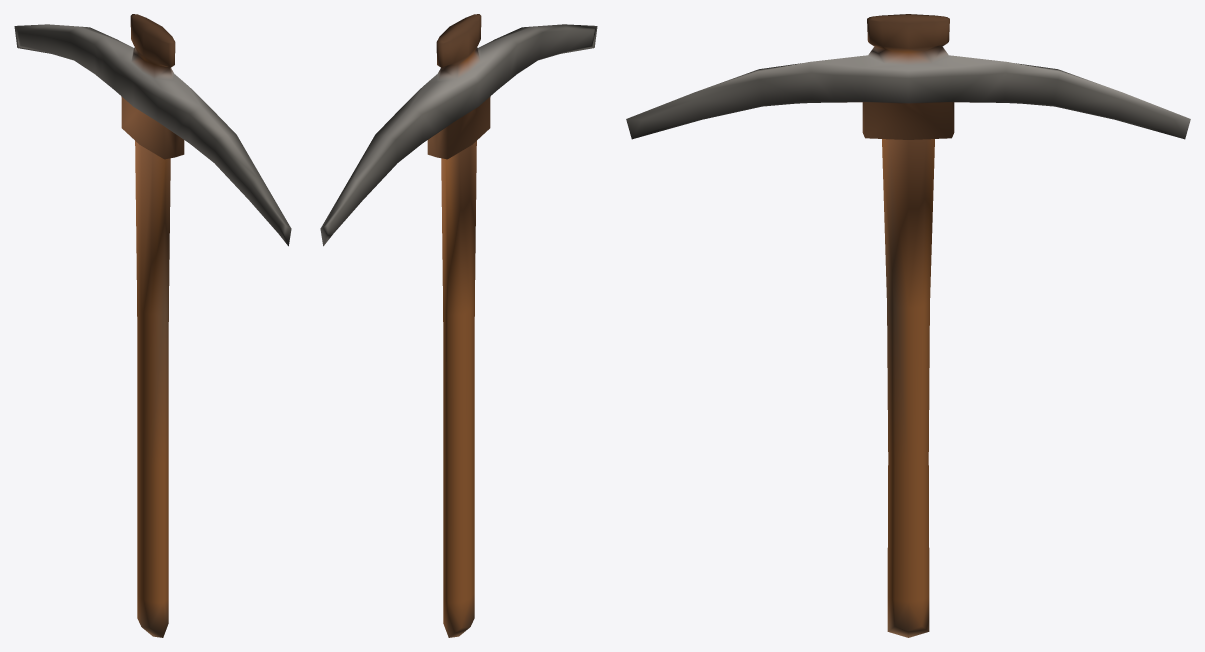
The model's file is stonePickaxe.fbx.
3 views of the same model, side by side, from view 1: azimuth 30°, elevation 25°; view 2: azimuth 150°, elevation 25°; view 3: azimuth 270°, elevation 25° (orthographic).
Parts seen in each view (by area): view 1: Plane.007; view 2: Plane.007; view 3: Plane.007.
Part boxes in pixels (x1,y1,x2,y2): Plane.007: (14, 14, 291, 637); Plane.007: (320, 14, 597, 637); Plane.007: (626, 14, 1190, 637).
Size of the model in its own units: 34.05 by 498 by 410.
